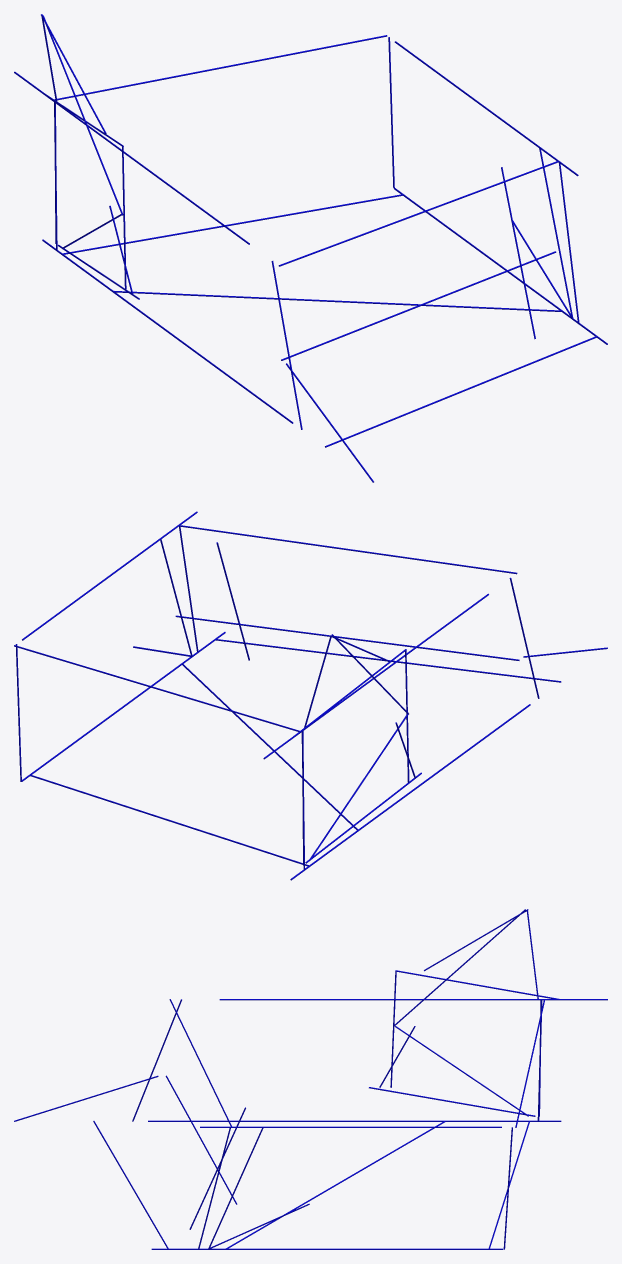
The model's file is corrected_3d_strokes.glb.
3 views of the same model, one above another, from view 1: azimuth 30°, elevation 25°; view 2: azimuth 150°, elevation 25°; view 3: azimuth 270°, elevation 25° (orthographic). The views are drawn at different scales.
Visible parts, largest first — view 1: world; view 2: world; view 3: world.
Boxes of the visible parts, bbox=[...] form: world: bbox=[14, 14, 607, 482]; world: bbox=[14, 511, 607, 880]; world: bbox=[14, 909, 607, 1249].
Bounding box in the file's own units: 9 × 6.25 × 16.48.
